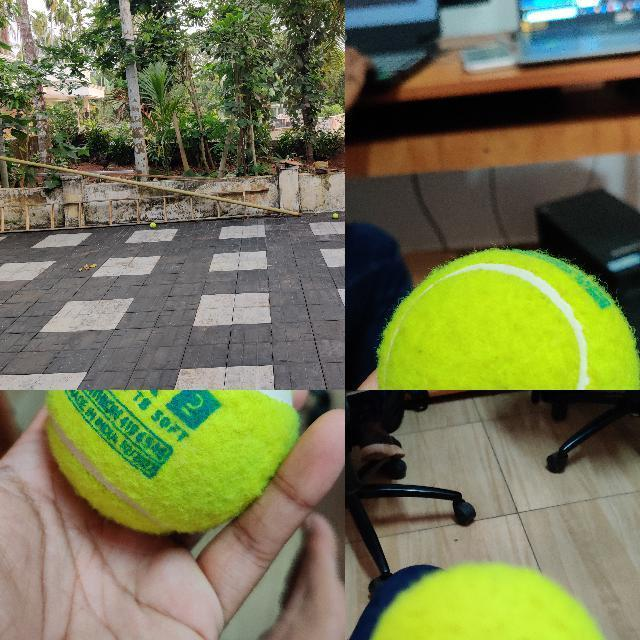tennis-ball: (376, 250, 639, 389), (47, 390, 300, 533), (361, 564, 616, 639), (150, 222, 156, 228), (332, 214, 338, 219)
